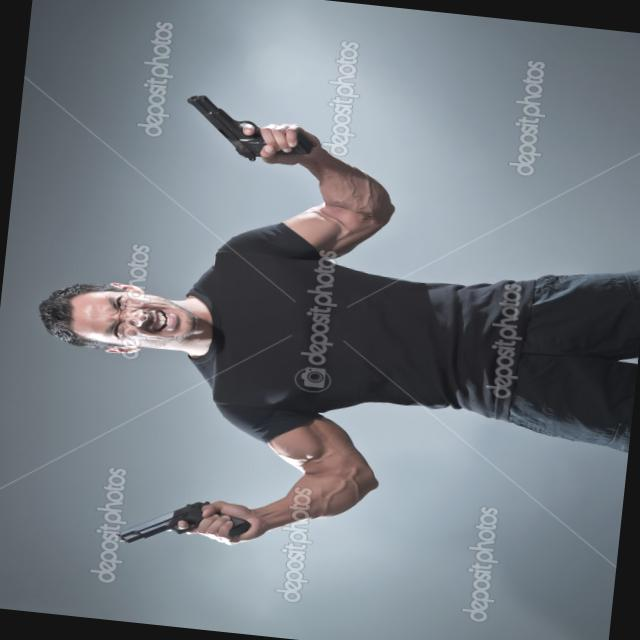handgun: (160, 86, 310, 170), (116, 482, 276, 559)
